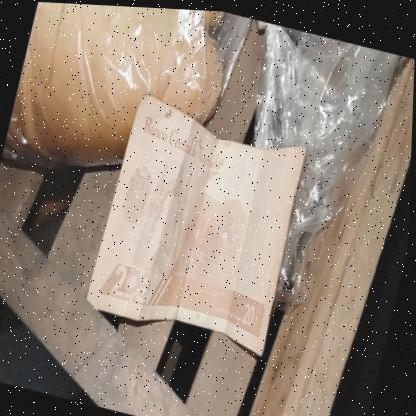twenty-back-vef: (83, 90, 314, 355)
